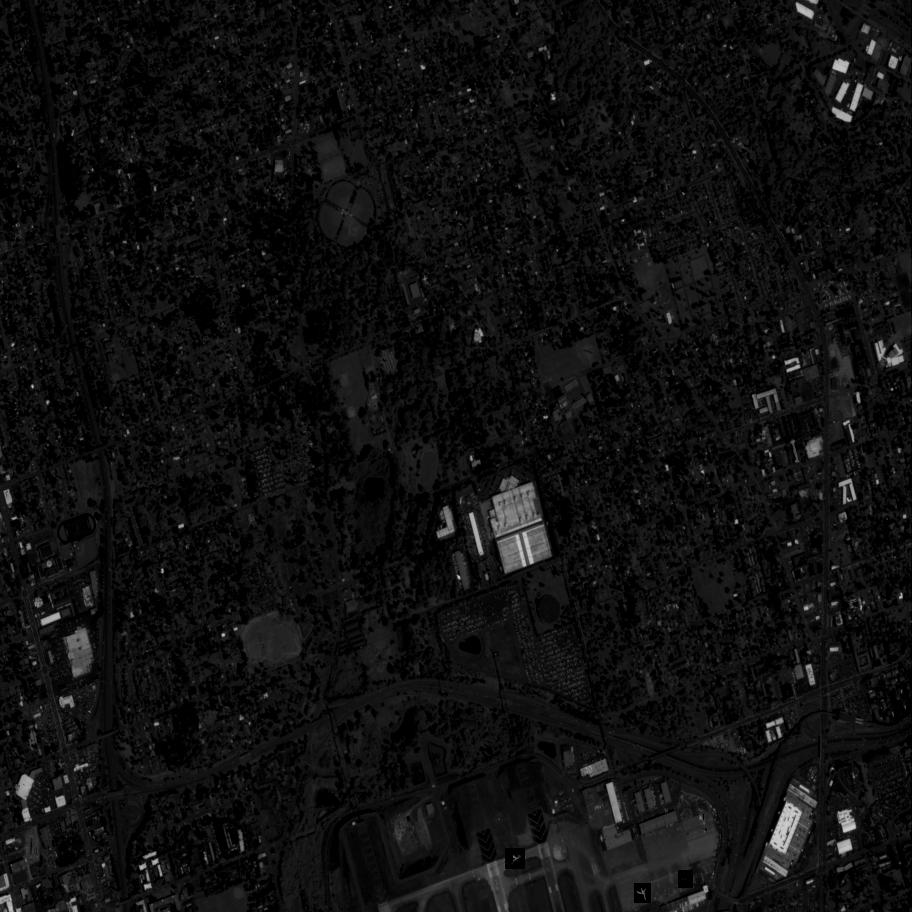plane: (506, 848, 527, 870), (634, 883, 652, 903), (679, 870, 694, 888), (703, 828, 709, 834), (702, 821, 706, 826), (700, 815, 703, 820)
